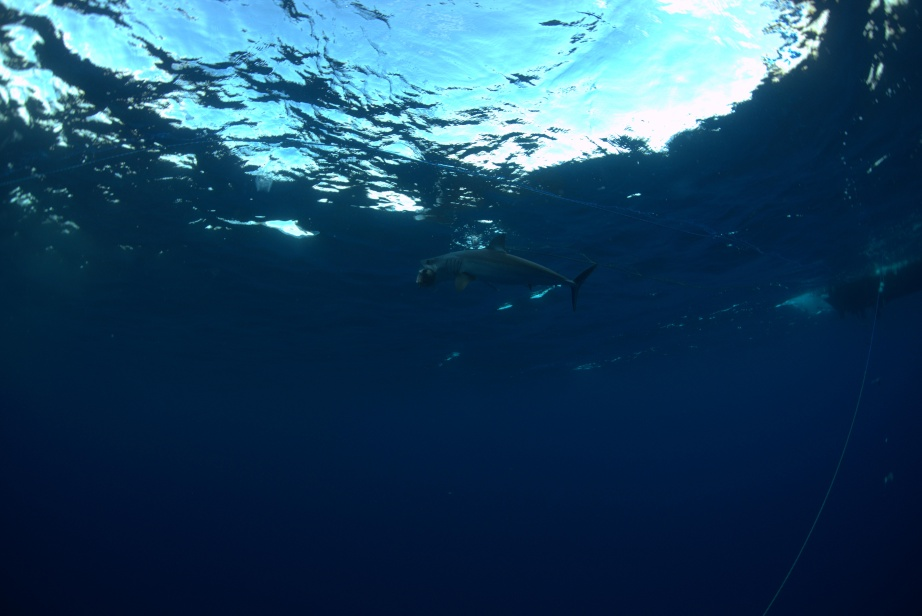Mako: (383, 230, 602, 317)
